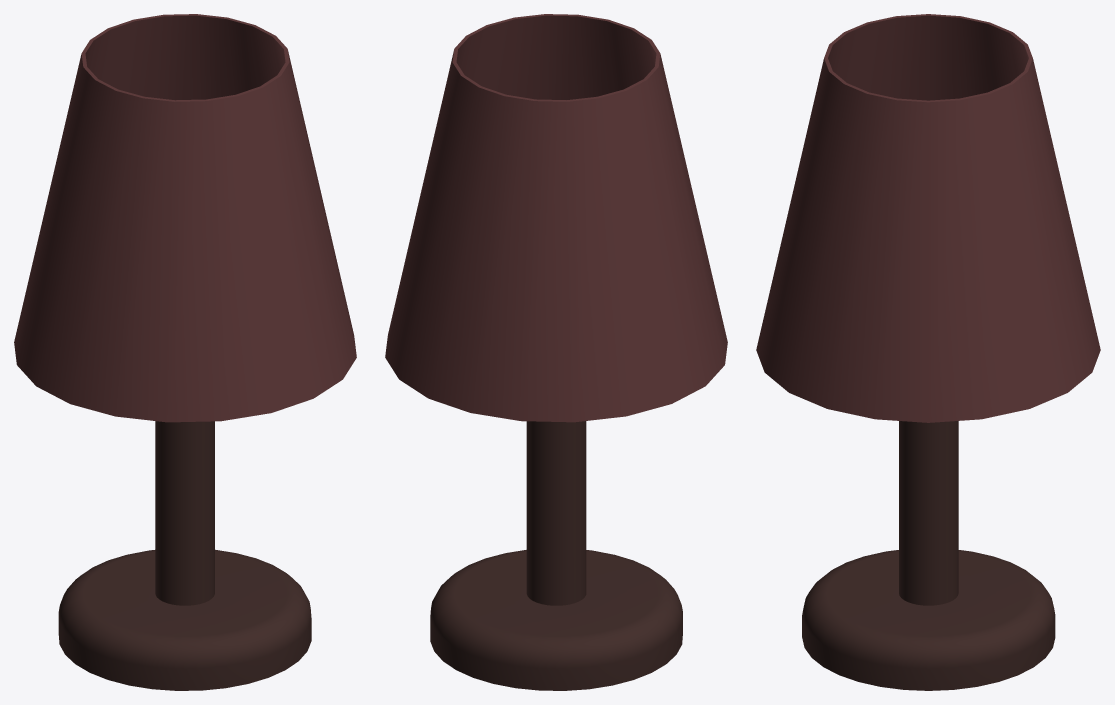
Rendered from LampeChevet3_5.fbx.
3 renders of one model, left to right at view 1: azimuth 30°, elevation 25°; view 2: azimuth 150°, elevation 25°; view 3: azimuth 270°, elevation 25°, orthographic.
Parts seen in each view (by area): view 1: pPipe110, pCylinder764; view 2: pPipe110, pCylinder764; view 3: pPipe110, pCylinder764.
Part boxes in pixels (x1=…): pPipe110: x1=14, y1=14, x2=356, y2=422; pCylinder764: x1=58, y1=421, x2=311, y2=690; pPipe110: x1=385, y1=14, x2=727, y2=422; pCylinder764: x1=430, y1=421, x2=682, y2=690; pPipe110: x1=756, y1=14, x2=1100, y2=422; pCylinder764: x1=802, y1=421, x2=1055, y2=690.
Bounding box in the file's own units: 13.33 × 24.73 × 13.33.
